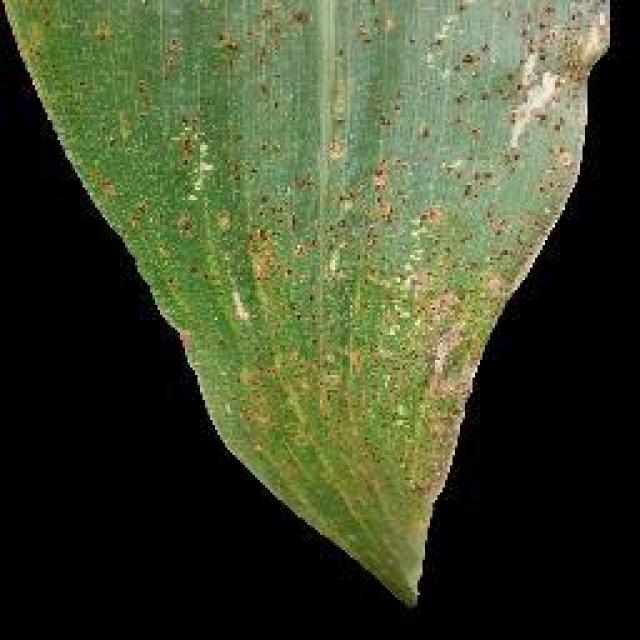Corn Common Rust: (120, 0, 508, 515)
